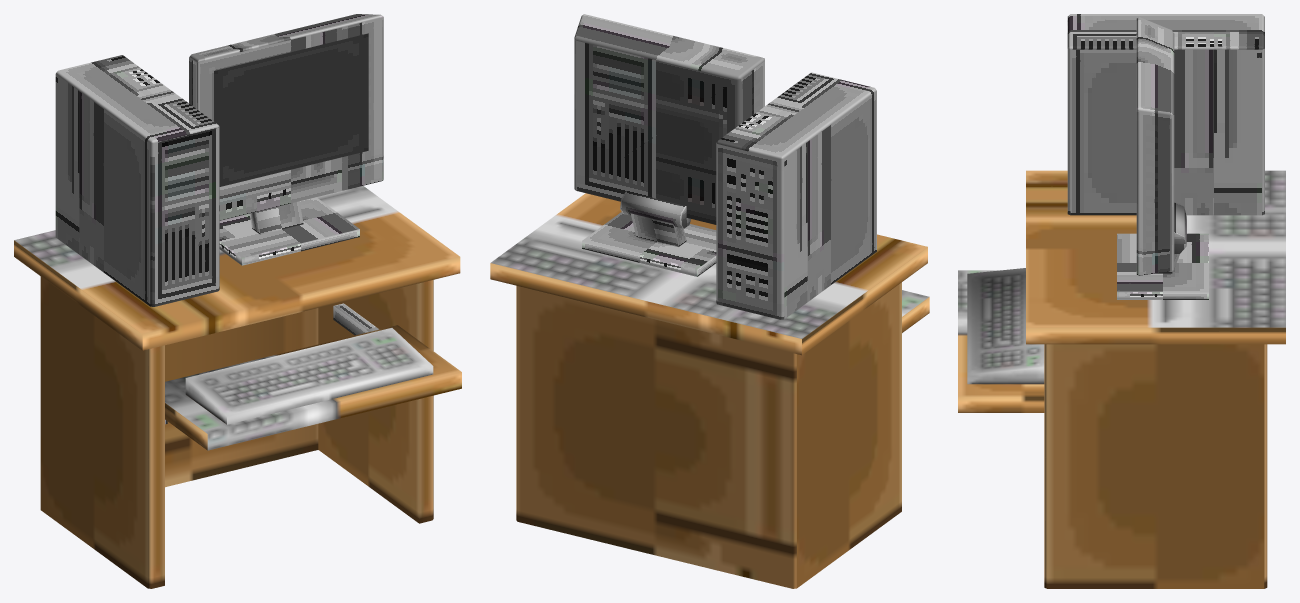
Rendered from int_oth_computer.dae.
3 renders of one model, left to right at view 1: azimuth 30°, elevation 25°; view 2: azimuth 150°, elevation 25°; view 3: azimuth 270°, elevation 25°, orthographic. The views are drawn at different scales.
Visible parts, largest first — view 1: _1_0_node, _2_0_node, _3_0_node, _0_0_node; view 2: _1_0_node, _3_0_node, _2_0_node; view 3: _1_0_node, _2_0_node, _3_0_node.
Boxes of the visible parts, x1,y1,x2,y2 form: _1_0_node: [14, 186, 461, 588]; _2_0_node: [79, 14, 383, 306]; _3_0_node: [55, 55, 378, 424]; _0_0_node: [214, 33, 368, 186]; _1_0_node: [490, 193, 929, 588]; _3_0_node: [574, 39, 876, 319]; _2_0_node: [574, 14, 876, 301]; _1_0_node: [958, 170, 1285, 588]; _2_0_node: [1070, 17, 1213, 299]; _3_0_node: [1067, 14, 1264, 270].
Size of the model in its own units: 32 by 45.48 by 28.23.
Materials: 4 (4 with a texture image).
